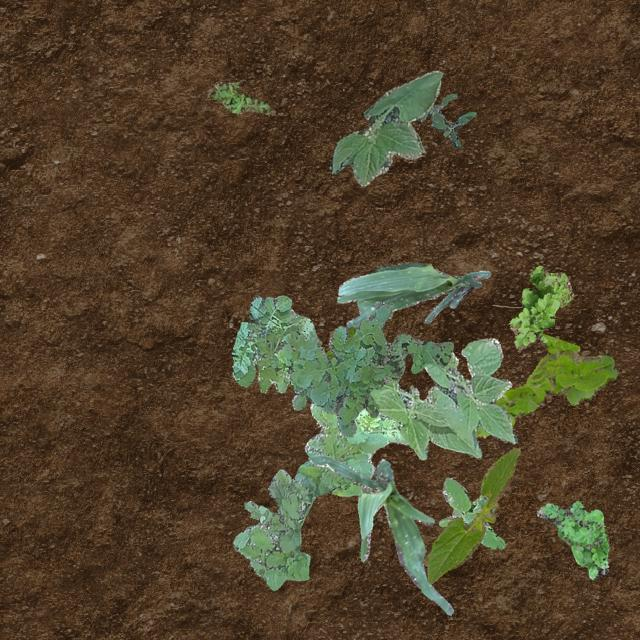crop: (308, 454, 452, 614), (368, 336, 516, 458), (422, 447, 520, 582), (328, 70, 442, 186), (336, 262, 490, 328)
weed: (232, 402, 406, 590), (230, 294, 452, 436), (474, 332, 618, 437), (536, 499, 608, 578), (508, 264, 570, 348), (438, 476, 504, 548), (418, 92, 474, 146), (210, 80, 270, 114), (324, 326, 356, 358)
